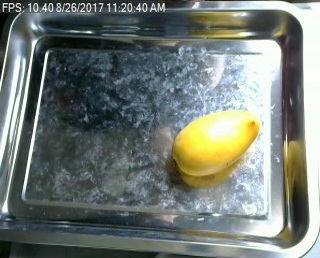Mango: (175, 108, 257, 176)
